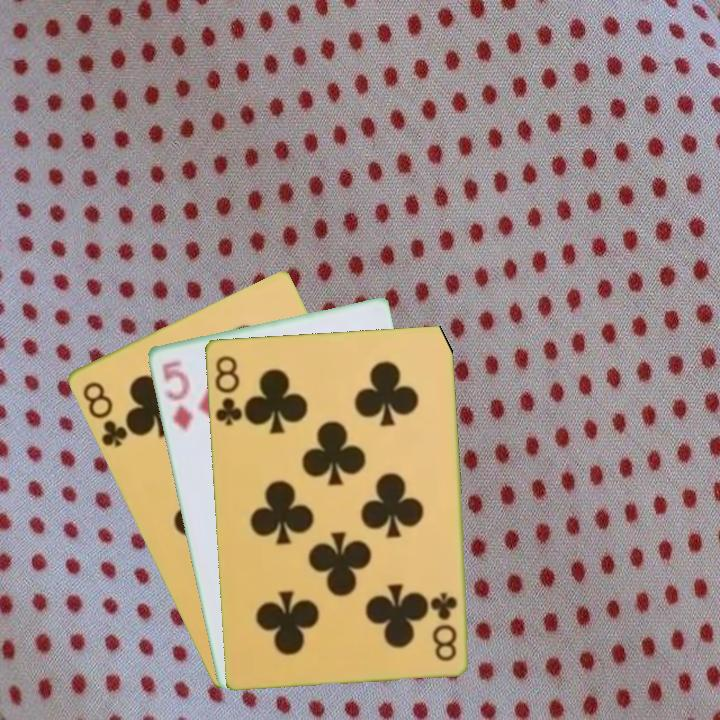5d: (158, 357, 196, 434)
8c: (78, 377, 130, 450), (211, 351, 244, 429), (429, 588, 460, 664)
